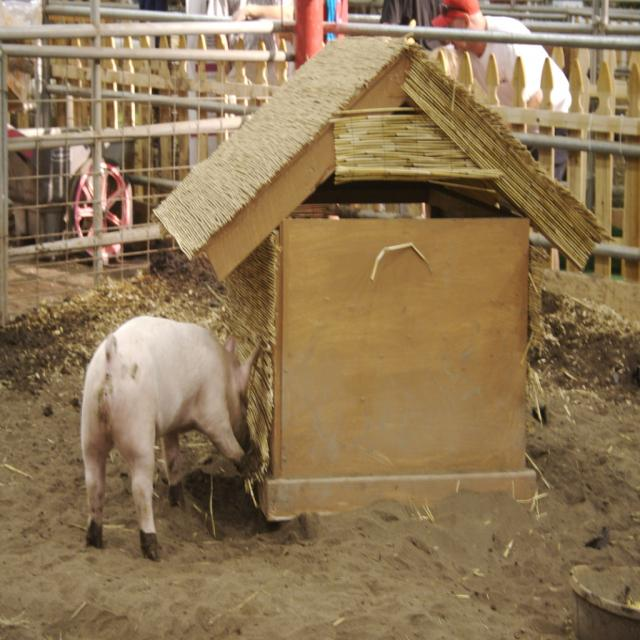Pig: (81, 313, 262, 560)
